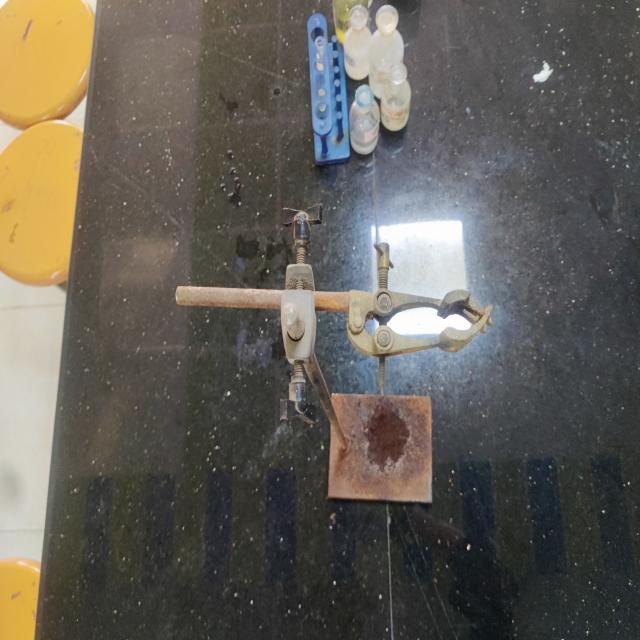Burette_Stands: (160, 180, 504, 525)
